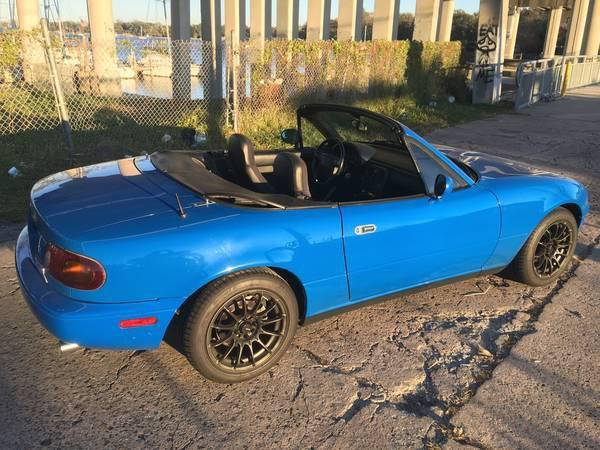Front_Fender: (486, 175, 587, 270)
Front_Right_Door: (340, 188, 502, 306)
Rear_Bumper: (15, 223, 187, 348)
Rear_Fender: (45, 205, 355, 322)
Right_Taillight: (43, 244, 110, 293)
Tailgate: (26, 149, 242, 270)
Wheel: (185, 267, 302, 384), (518, 211, 578, 291)
